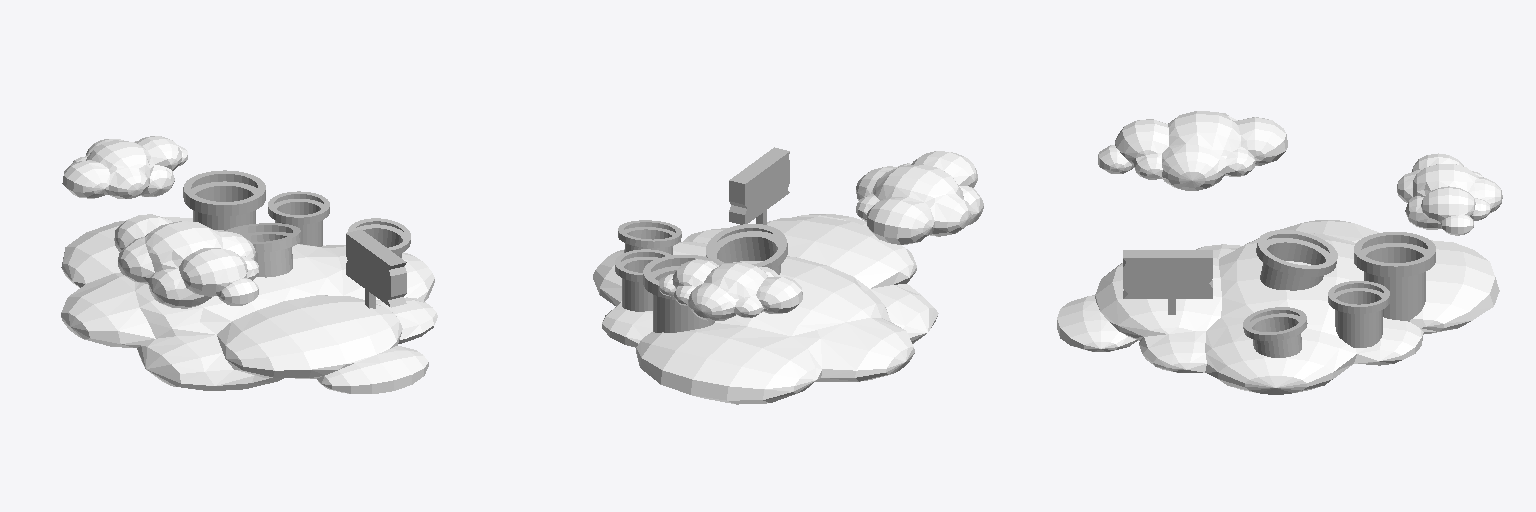
File: entornoNubes.obj
3 views of the same model, side by side, from view 1: azimuth 30°, elevation 25°; view 2: azimuth 150°, elevation 25°; view 3: azimuth 270°, elevation 25° (orthographic).
Visible parts, largest first — view 1: Nubes.002, Cylinder.002, Cube.001, Cylinder.003, Cylinder, Cylinder.001; view 2: Nubes.002, Cube.001, Cylinder.003, Cylinder.002, Cylinder, Cylinder.001; view 3: Nubes.002, Cylinder.002, Cube.001, Cylinder.003, Cylinder, Cylinder.001.
Boxes of the visible parts, box(x1,y1,x2,y2) form: Nubes.002: box(61, 136, 437, 393); Cylinder.002: box(183, 170, 265, 230); Cube.001: box(346, 229, 406, 308); Cylinder.003: box(226, 223, 300, 277); Cylinder: box(268, 191, 329, 246); Cylinder.001: box(347, 218, 410, 257); Nubes.002: box(593, 151, 983, 404); Cube.001: box(729, 147, 789, 224); Cylinder.003: box(706, 224, 787, 274); Cylinder.002: box(643, 255, 721, 332); Cylinder: box(615, 249, 670, 311); Cylinder.001: box(618, 220, 681, 254); Nubes.002: box(1057, 111, 1502, 394); Cylinder.002: box(1354, 232, 1435, 321); Cube.001: box(1123, 250, 1212, 314); Cylinder.003: box(1256, 230, 1337, 290); Cylinder: box(1328, 281, 1389, 347); Cylinder.001: box(1243, 307, 1307, 357).
Bounding box in the file's own units: 11.25 × 5.42 × 13.05.